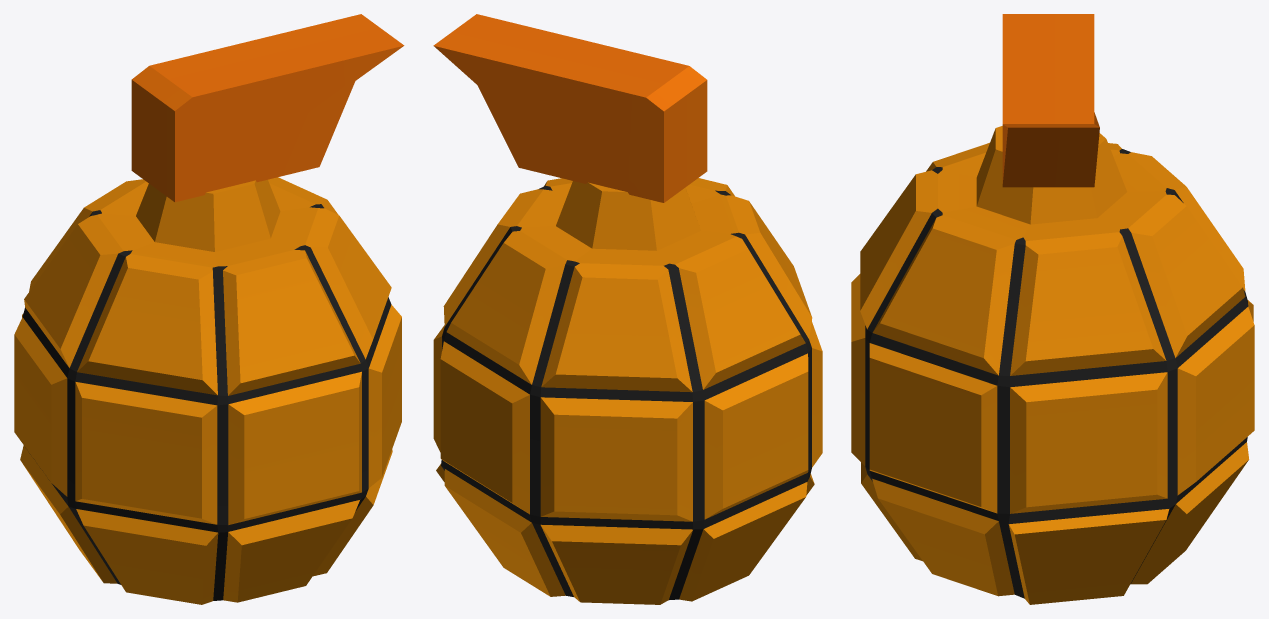
The model's file is BANANA (1).fbx.
3 views of the same model, side by side, from view 1: azimuth 30°, elevation 25°; view 2: azimuth 150°, elevation 25°; view 3: azimuth 270°, elevation 25° (orthographic). The views are drawn at different scales.
Parts seen in each view (by area): view 1: Cube; view 2: Cube; view 3: Cube.
Boxes of the visible parts, x1,y1,x2,y2 form: Cube: [14, 14, 404, 604]; Cube: [433, 14, 822, 604]; Cube: [851, 14, 1254, 604].
Bounding box in the file's own units: 107 × 144 × 102.
1 material, 1 textured.
